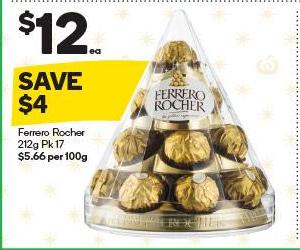description_block: (13, 128, 94, 152)
price_main: (9, 5, 110, 61)
product_image_block: (113, 4, 281, 238)
promo_text_block: (8, 64, 130, 124)
unit_price_block: (11, 149, 95, 168)
